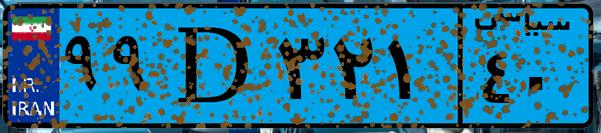0: (525, 38, 570, 115)
1: (385, 28, 445, 110)
2: (330, 28, 385, 110)
3: (270, 28, 330, 110)
4: (475, 38, 525, 113)
9: (57, 26, 110, 100), (110, 28, 158, 98)
D: (158, 12, 270, 120)
